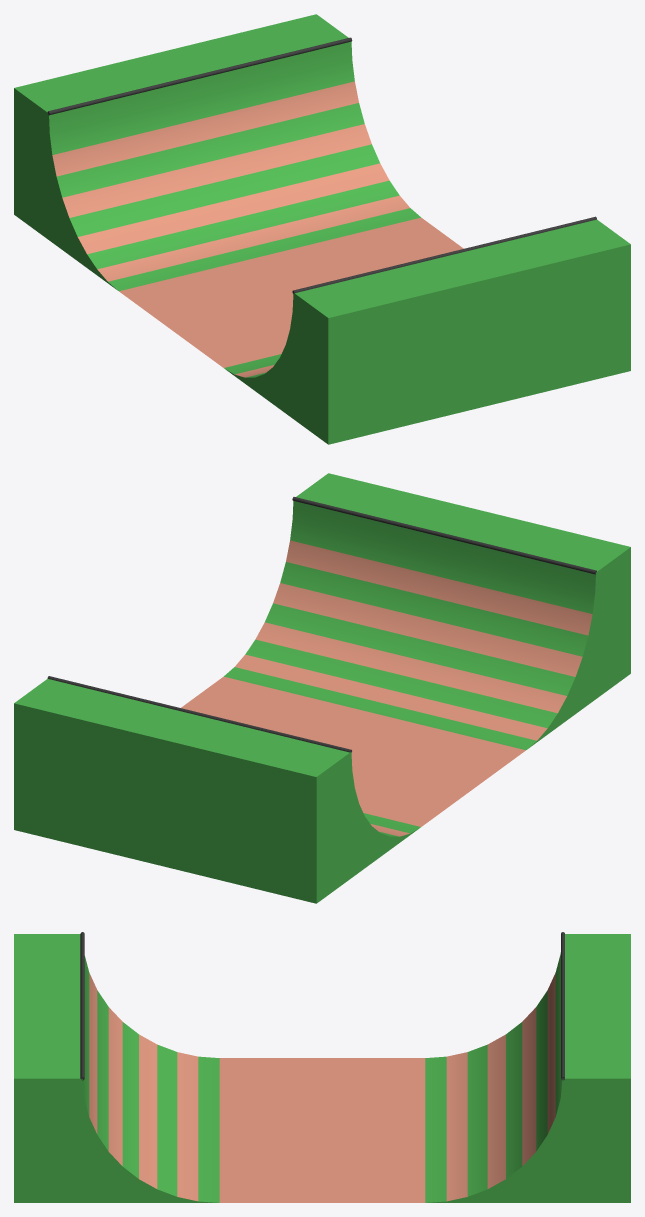
Rendered from Vert Ramp.fbx.
The picture shows the model from 3 angles, top to bottom: view 1: azimuth 30°, elevation 25°; view 2: azimuth 150°, elevation 25°; view 3: azimuth 270°, elevation 25°; orthographic projection.
Parts seen in each view (by area): view 1: Plane.001, Plane.003, Plane.002; view 2: Plane.001, Plane.002, Plane.003; view 3: Plane.001, Plane.002, Plane.003.
Part boxes in pixels (x1,y1,x2,y2): Plane.001: [14, 14, 630, 444]; Plane.003: [47, 37, 352, 115]; Plane.002: [292, 216, 596, 294]; Plane.001: [14, 473, 630, 903]; Plane.002: [292, 497, 596, 574]; Plane.003: [47, 676, 351, 752]; Plane.001: [14, 934, 630, 1202]; Plane.002: [80, 932, 84, 1080]; Plane.003: [561, 932, 564, 1080].
Bounding box in the file's own units: 500 × 203 × 900.
